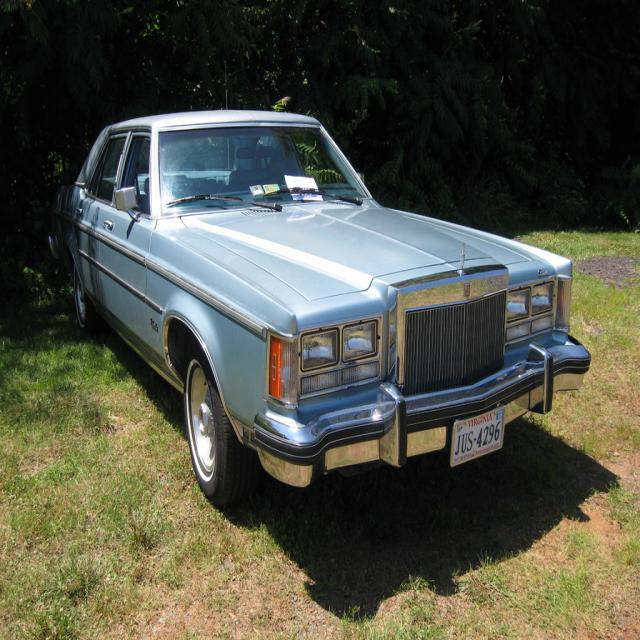car: (60, 114, 578, 508)
